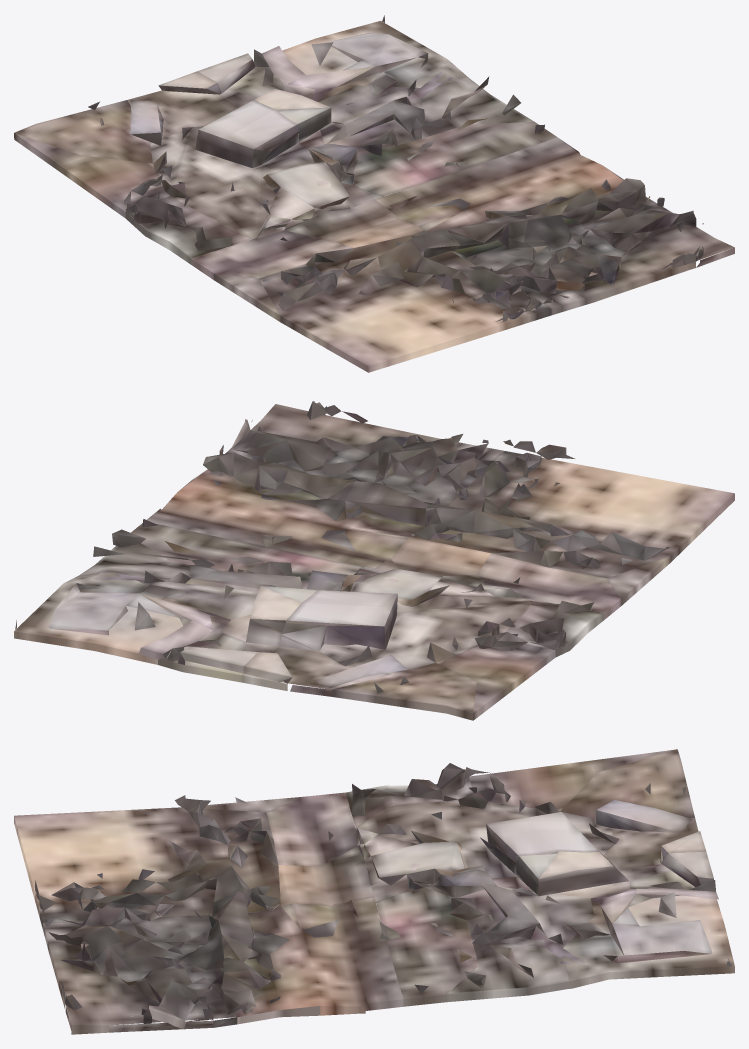
3 views of the same model, one above another, from view 1: azimuth 30°, elevation 25°; view 2: azimuth 150°, elevation 25°; view 3: azimuth 270°, elevation 25° (orthographic). The views are drawn at different scales.
Visible parts, largest first — view 1: Mesh_0; view 2: Mesh_0; view 3: Mesh_0.
Boxes of the visible parts, left/top/right/bottom form: Mesh_0: left=14, top=15, right=734, bottom=372; Mesh_0: left=14, top=401, right=734, bottom=720; Mesh_0: left=14, top=749, right=734, bottom=1034.
Size of the model in its own units: 532 by 64.66 by 659.
1 material, 1 textured.
